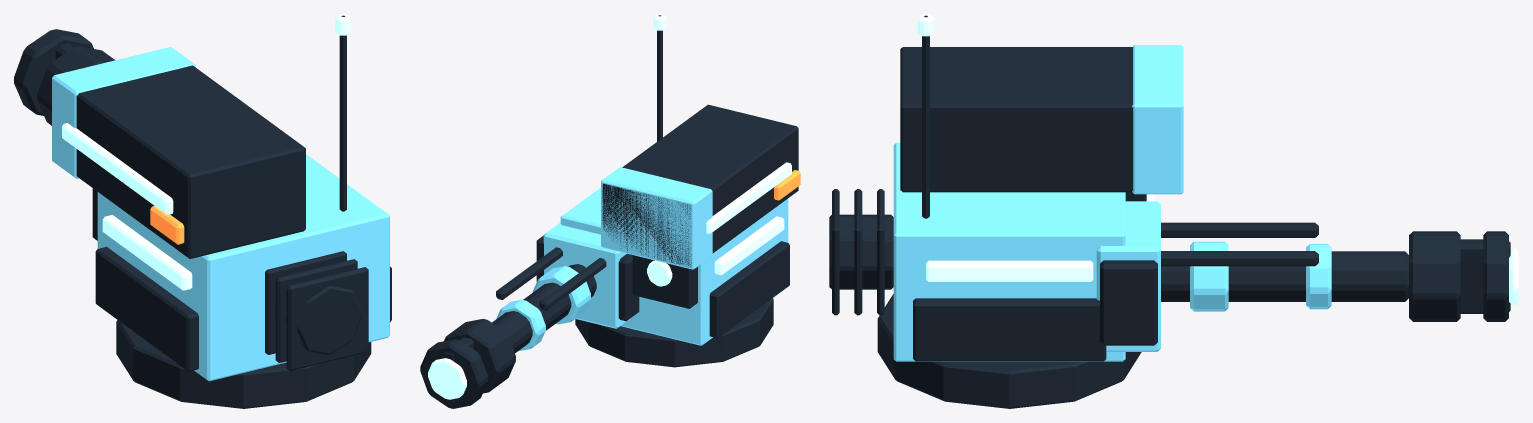
The model's file is tower_slow_turret.glb.
3 views of the same model, side by side, from view 1: azimuth 30°, elevation 25°; view 2: azimuth 150°, elevation 25°; view 3: azimuth 270°, elevation 25° (orthographic). The views are drawn at different scales.
Visible parts, largest first — view 1: TowerSlow_Turret, TowerSlow_Barrel; view 2: TowerSlow_Turret, TowerSlow_Barrel; view 3: TowerSlow_Turret, TowerSlow_Barrel.
Part boxes in pixels (bbox=[...]): TowerSlow_Turret: bbox=[52, 14, 391, 408]; TowerSlow_Barrel: bbox=[14, 29, 114, 125]; TowerSlow_Turret: bbox=[560, 14, 800, 367]; TowerSlow_Barrel: bbox=[420, 222, 639, 408]; TowerSlow_Turret: bbox=[829, 14, 1183, 408]; TowerSlow_Barrel: bbox=[1096, 201, 1518, 351].
Size of the model in its own units: 0.4185 by 0.63 by 1.07.
